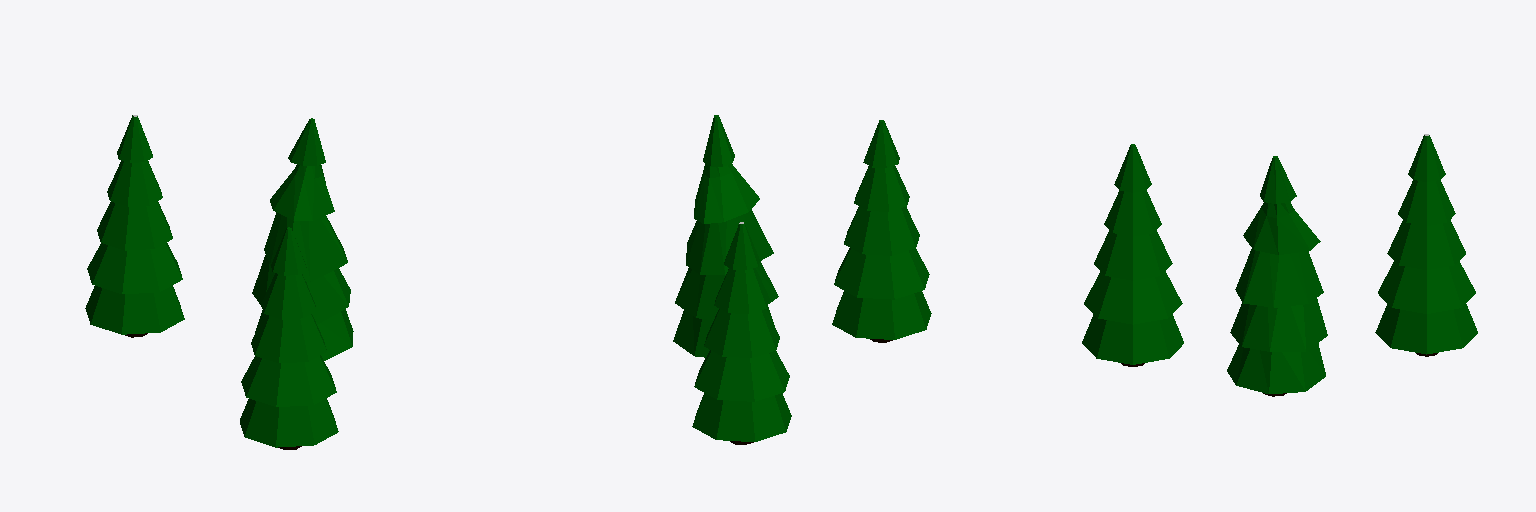
Rendered from PineTree_440.obj.
3 renders of one model, left to right at view 1: azimuth 30°, elevation 25°; view 2: azimuth 150°, elevation 25°; view 3: azimuth 270°, elevation 25°, orthographic.
Visible parts, largest first — view 1: pine_tree_1__001, pine_tree_1_, pine_tree_1_var_1; view 2: pine_tree_1__001, pine_tree_1_, pine_tree_1_var_1; view 3: pine_tree_1_var_1, pine_tree_1__001, pine_tree_1_.
Boxes of the visible parts, box(x1,y1,x2,y2) form: pine_tree_1__001: box(85, 115, 184, 337); pine_tree_1_: box(240, 227, 338, 449); pine_tree_1_var_1: box(252, 118, 353, 360); pine_tree_1__001: box(692, 222, 791, 444); pine_tree_1_: box(832, 120, 931, 342); pine_tree_1_var_1: box(673, 115, 778, 357); pine_tree_1_var_1: box(1227, 156, 1327, 396); pine_tree_1__001: box(1375, 134, 1477, 356); pine_tree_1_: box(1082, 144, 1183, 366).
Bounding box in the file's own units: 228 × 296 × 425.